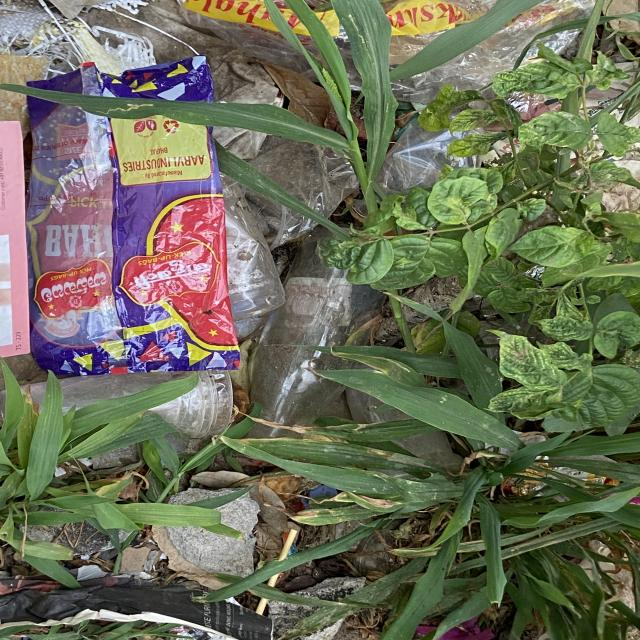chai_thuy_tinh: (250, 228, 385, 426)
giay_goi: (25, 97, 239, 375), (27, 55, 213, 100)
nhua: (392, 0, 595, 104), (222, 175, 315, 321), (250, 136, 358, 216), (377, 120, 480, 192), (149, 370, 232, 439), (59, 372, 193, 412), (389, 31, 441, 64), (542, 29, 580, 52), (451, 0, 494, 13), (28, 383, 44, 404)
